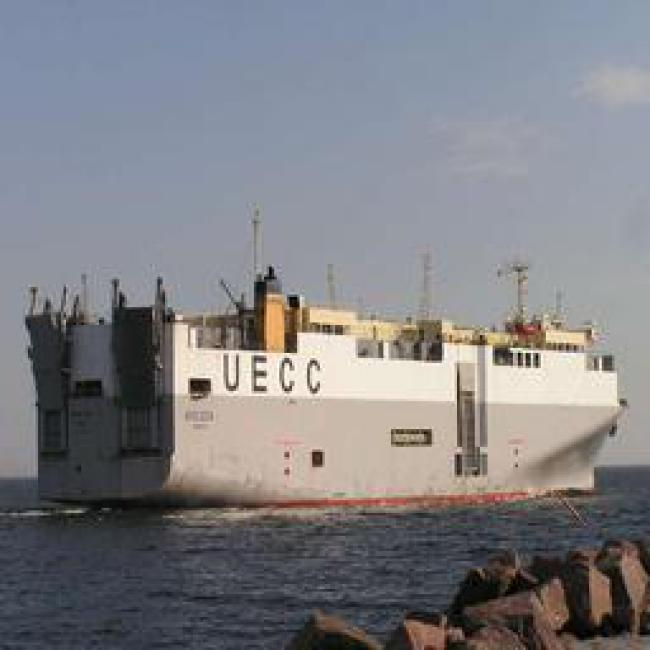Ship: (15, 263, 636, 507)
